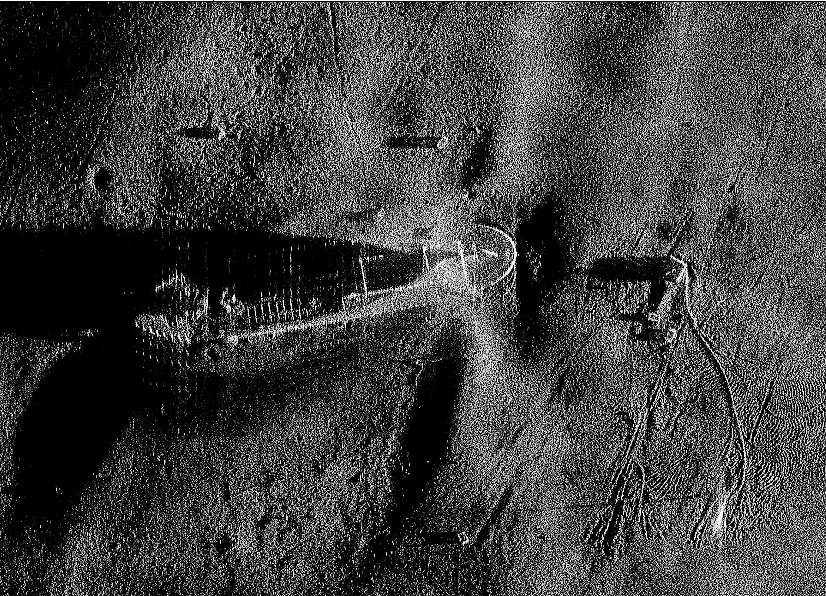ship: (128, 224, 523, 373)
